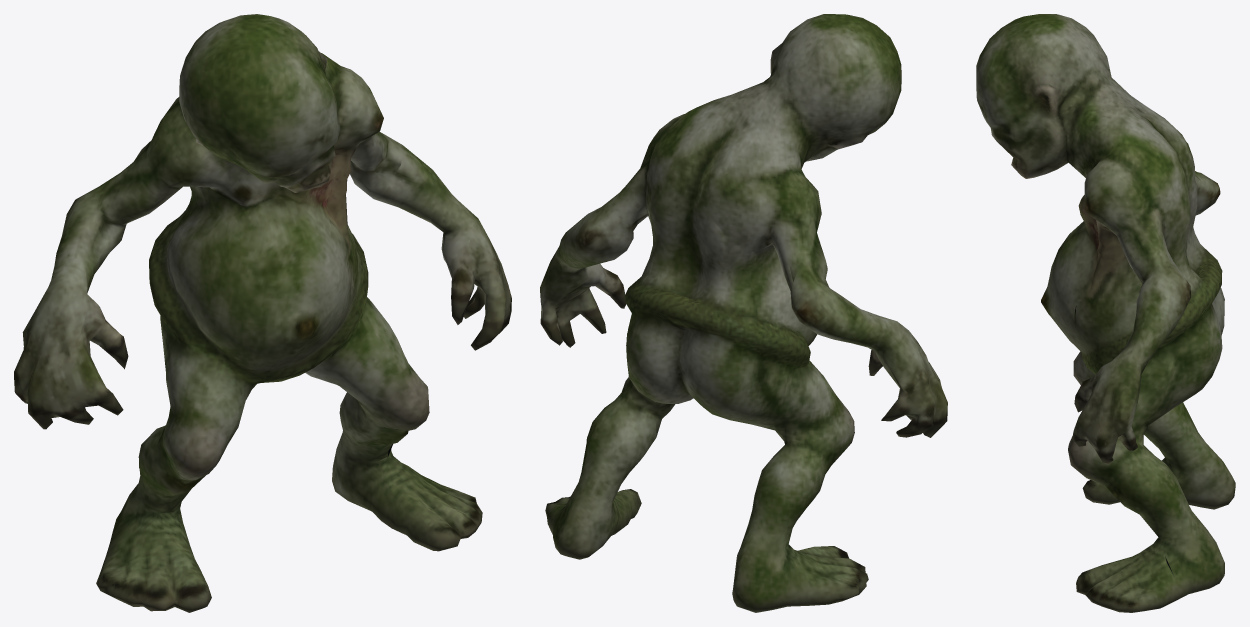
Rendered from drowned_grubling_v1.glb.
3 views of the same model, side by side, from view 1: azimuth 30°, elevation 25°; view 2: azimuth 150°, elevation 25°; view 3: azimuth 270°, elevation 25° (orthographic). The views are drawn at different scales.
Parts seen in each view (by area): view 1: drowned-grubling-m0q-4000; view 2: drowned-grubling-m0q-4000; view 3: drowned-grubling-m0q-4000.
Boxes of the visible parts, x1,y1,x2,y2 form: drowned-grubling-m0q-4000: [14, 14, 511, 612]; drowned-grubling-m0q-4000: [540, 14, 947, 612]; drowned-grubling-m0q-4000: [976, 14, 1235, 612].
Bounding box in the file's own units: 0.8212 × 1 × 0.4805.
1 material, 1 textured.
